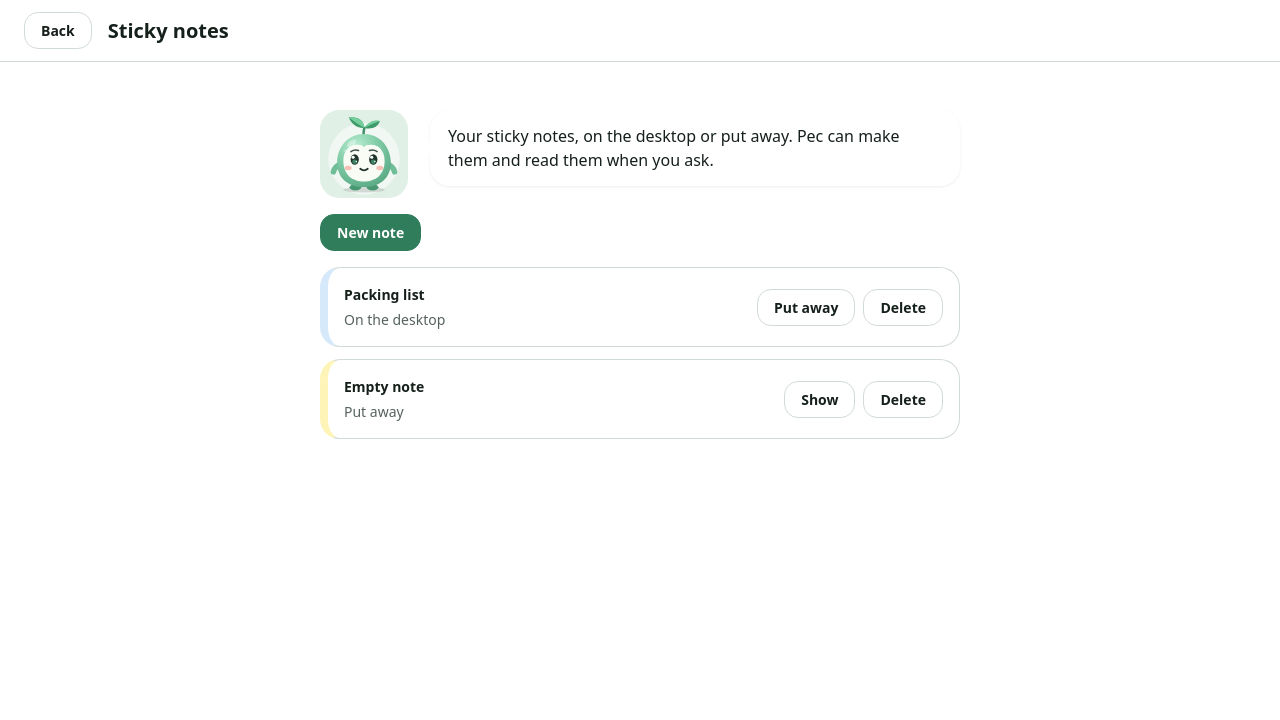
NotesView › asks before deleting, and says where the note goes
Later steps or results of the test are not shown.
Step 1. Click the button "Delete" in the row of "Packing list" → (903, 307), box x1=864 y1=288 x2=943 y2=326
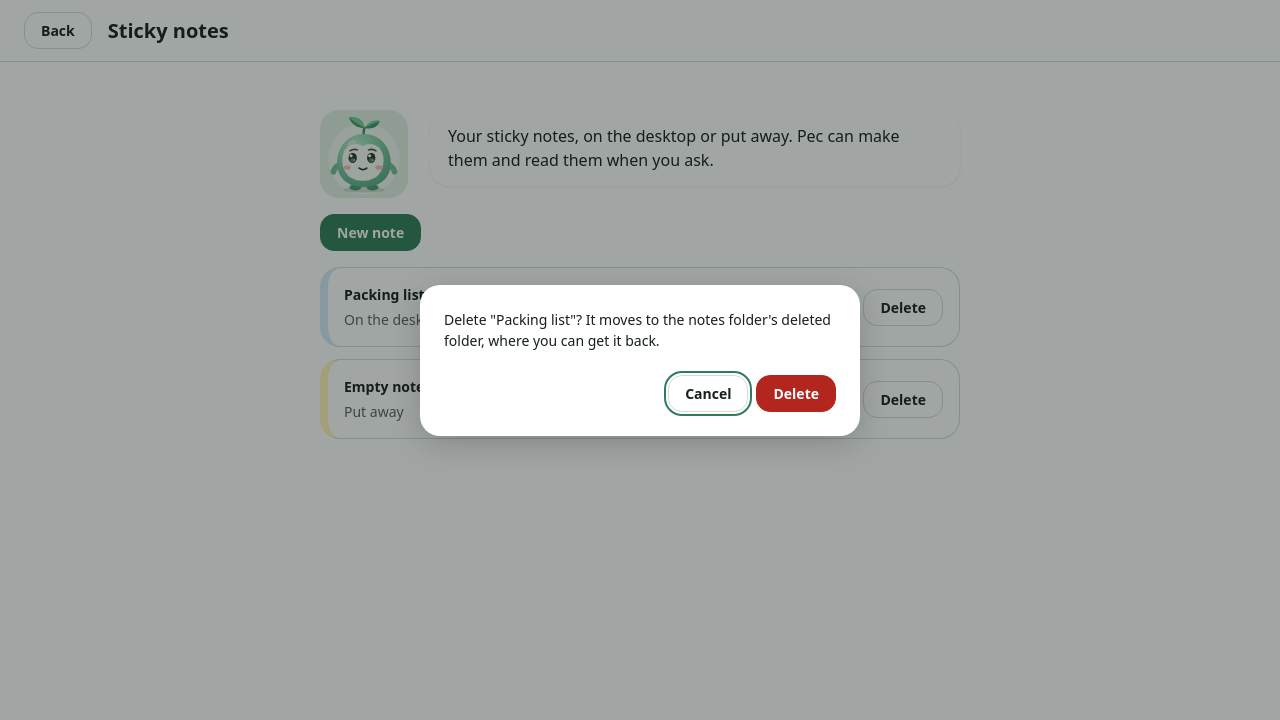
Check: the dialog shows "deleted folder, where you can get it back", box x1=444 y1=310 x2=831 y2=350
